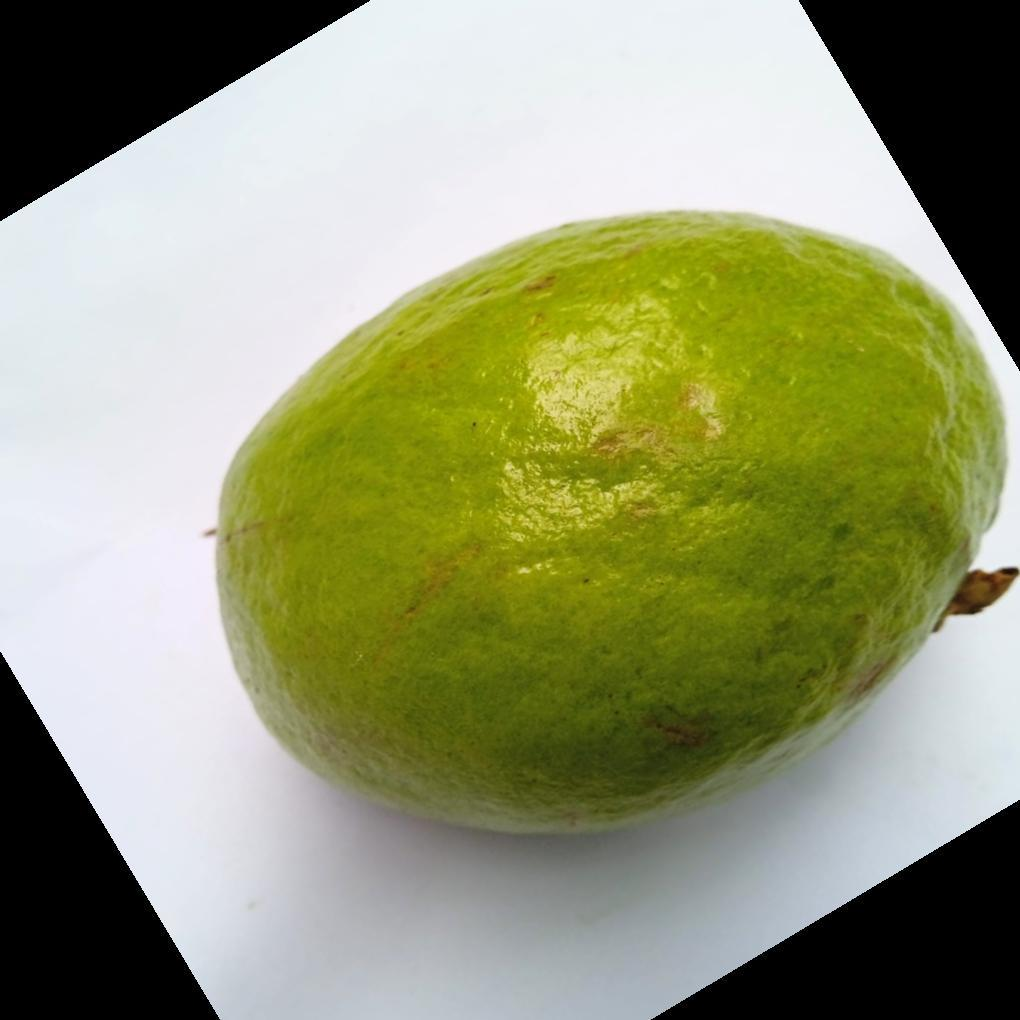FreshGuava: (211, 210, 1009, 840)
